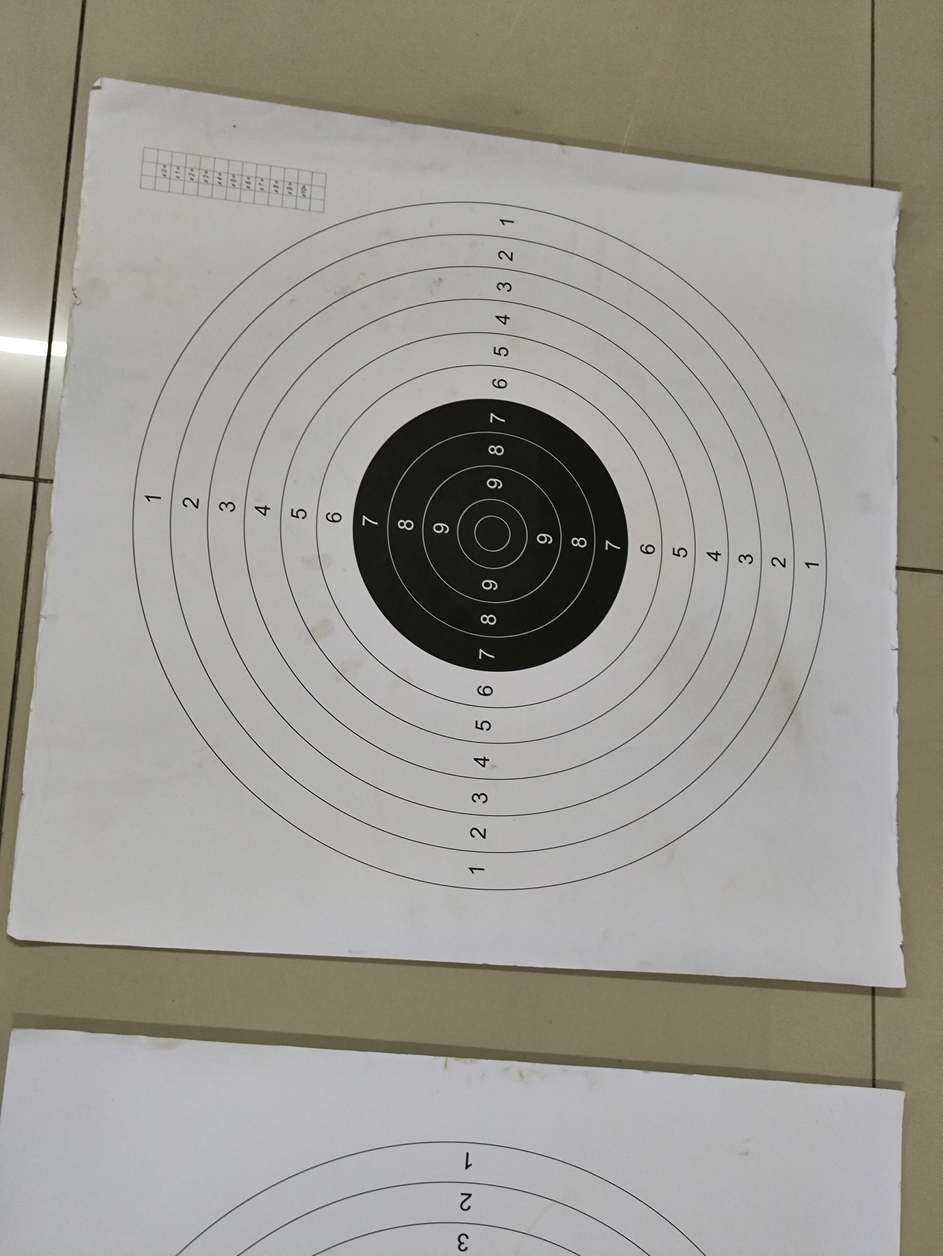target: (117, 125, 864, 918)
